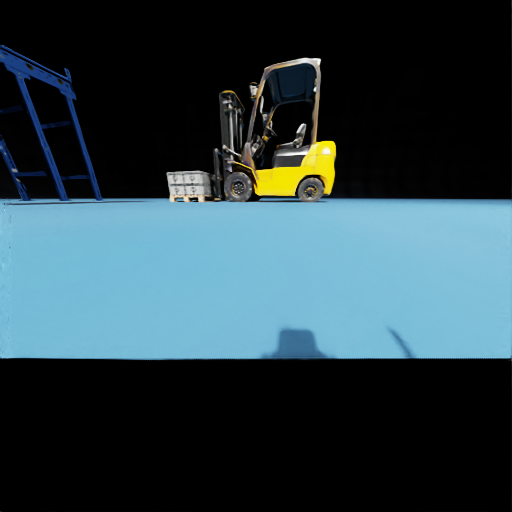transportation_area: (185, 184, 214, 194), (4, 53, 5, 54)
